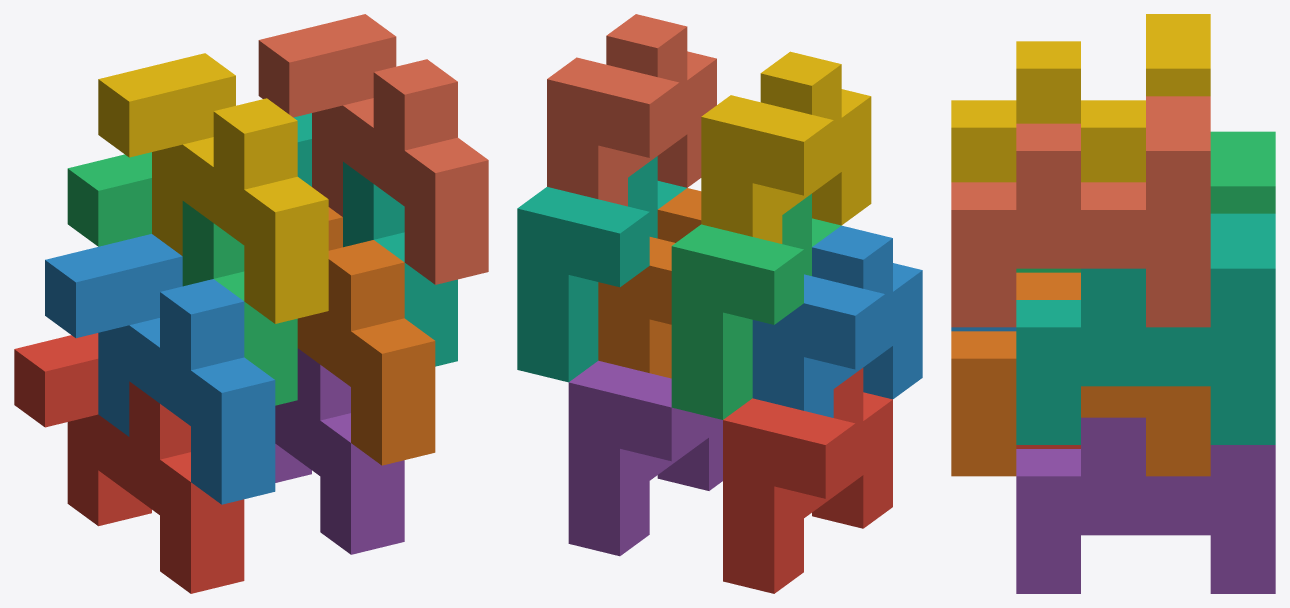
The model's file is tiling.obj.
The picture shows the model from 3 angles, left to right: view 1: azimuth 30°, elevation 25°; view 2: azimuth 150°, elevation 25°; view 3: azimuth 270°, elevation 25°; orthographic projection. The views are drawn at different scales.
Parts seen in each view (by area): view 1: copy_1_domain_2, copy_1_domain_4, copy_1_domain_8, copy_1_domain_1, copy_1_domain_6, copy_1_domain_5, copy_1_domain_3, copy_1_domain_7; view 2: copy_1_domain_1, copy_1_domain_4, copy_1_domain_8, copy_1_domain_2, copy_1_domain_5, copy_1_domain_3, copy_1_domain_7, copy_1_domain_6; view 3: copy_1_domain_8, copy_1_domain_7, copy_1_domain_5, copy_1_domain_4, copy_1_domain_6, copy_1_domain_3.
Boxes of the visible parts, <box> form: copy_1_domain_2: <box>45,234,275,504</box>; copy_1_domain_4: <box>98,53,328,323</box>; copy_1_domain_8: <box>258,14,488,284</box>; copy_1_domain_1: <box>14,333,244,593</box>; copy_1_domain_6: <box>297,207,435,465</box>; copy_1_domain_5: <box>275,348,404,554</box>; copy_1_domain_3: <box>67,152,297,405</box>; copy_1_domain_7: <box>293,113,457,366</box>; copy_1_domain_1: <box>723,368,892,593</box>; copy_1_domain_4: <box>701,51,871,243</box>; copy_1_domain_8: <box>547,14,716,206</box>; copy_1_domain_2: <box>752,225,922,417</box>; copy_1_domain_5: <box>568,360,722,556</box>; copy_1_domain_3: <box>671,193,841,419</box>; copy_1_domain_7: <box>517,156,686,382</box>; copy_1_domain_6: <box>598,188,701,378</box>; copy_1_domain_8: <box>951,96,1210,327</box>; copy_1_domain_7: <box>1016,213,1275,444</box>; copy_1_domain_5: <box>1016,417,1275,593</box>; copy_1_domain_4: <box>951,14,1210,182</box>; copy_1_domain_6: <box>951,272,1210,476</box>; copy_1_domain_3: <box>1016,131,1275,272</box>.
Bounding box in the file's own units: 6 × 8 × 5.
